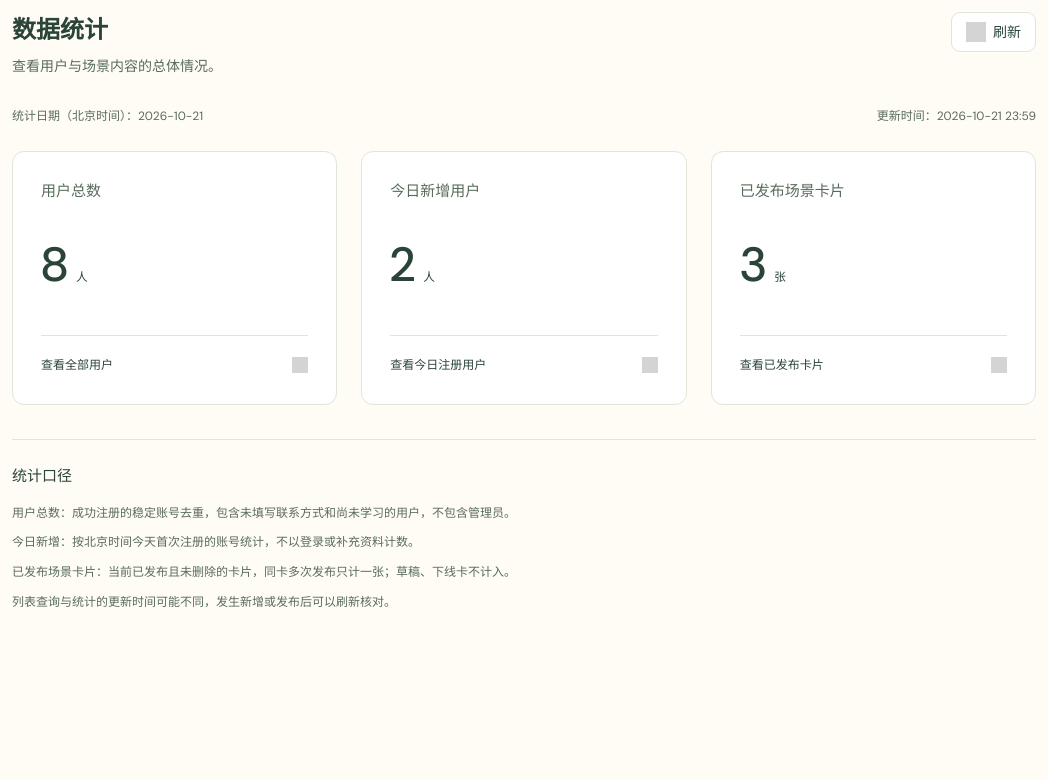
Test: preserves the previous dated snapshot when a refresh returns 503
The image size is (1048, 780).
Click the button "刷新" at (994, 32), box [951,12,1036,52]
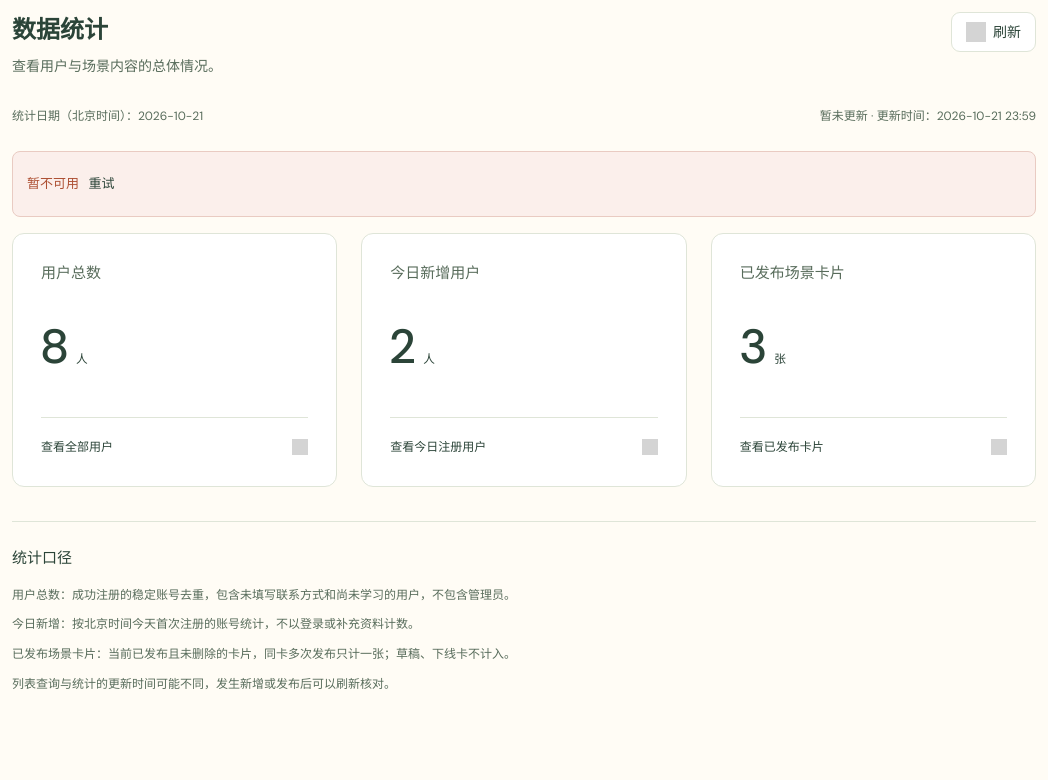
Check: the elements with class "metric-value" read "8", "2", "3", in this order, box [41,319,68,374]; [390,319,415,374]; [740,319,766,374]
Check: the text "暂未更新" is shown, box [820,108,1036,124]
